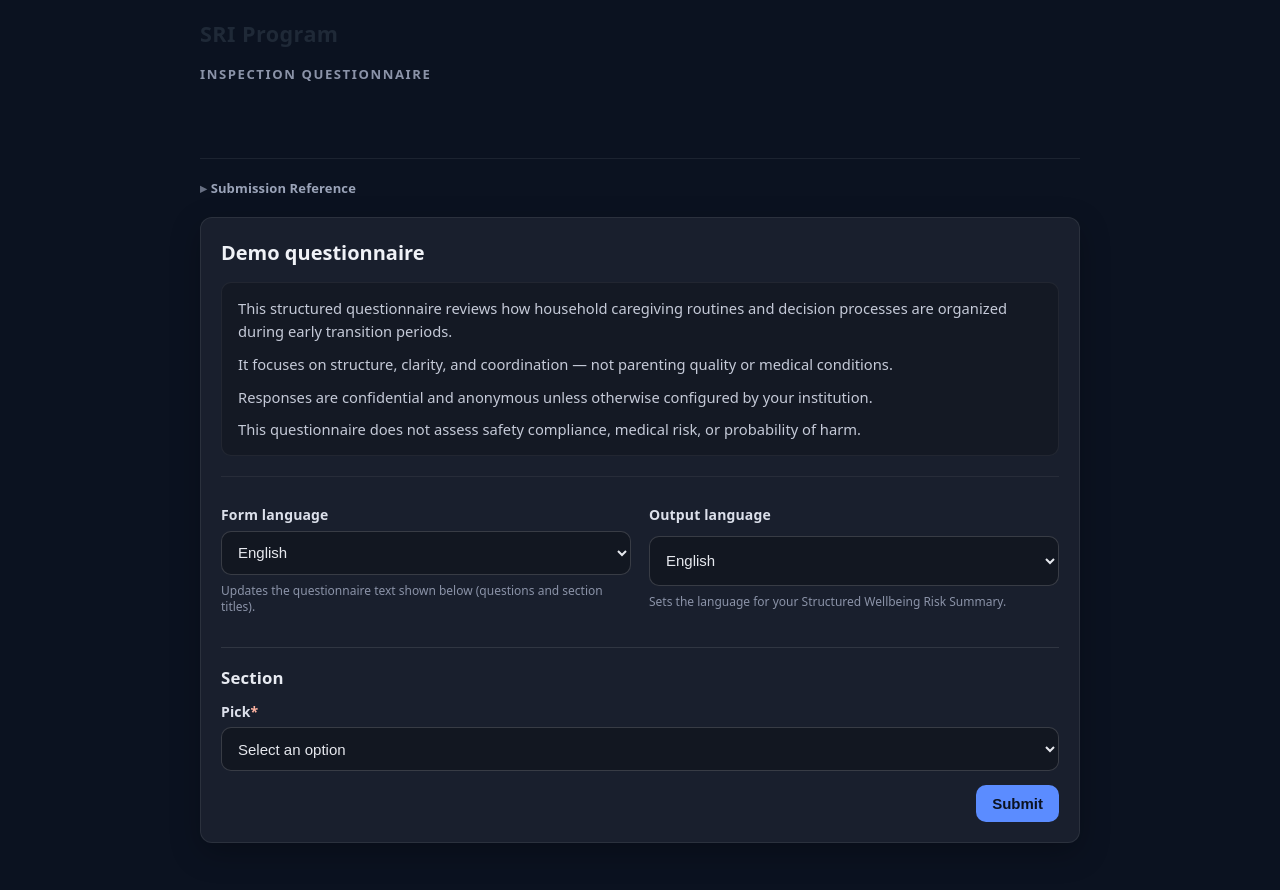
FormPage › maps backend 400 validation detail to a field message
Select "One" in the dropdown labelled "Pick*": (640, 749) [221,727,1059,771]
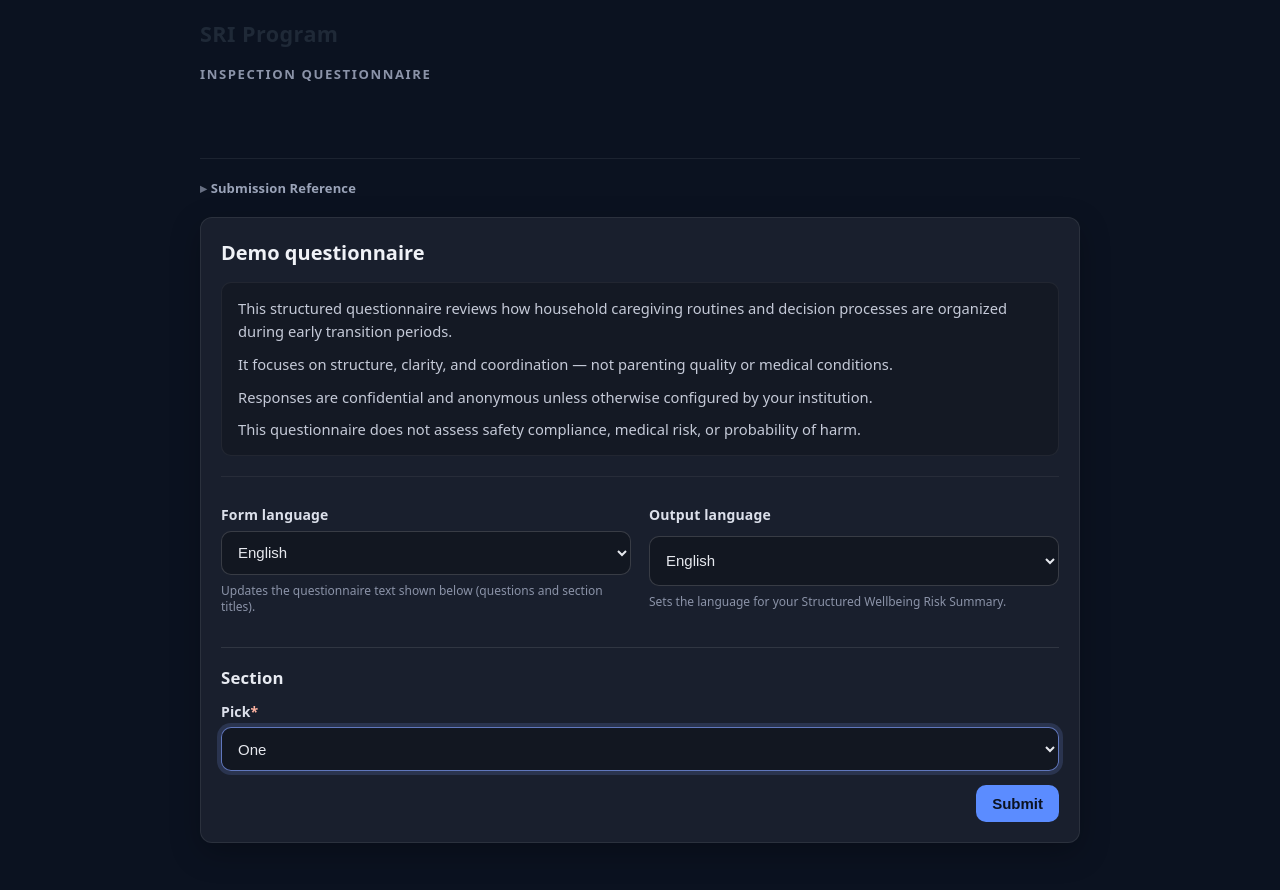
Click the button "Submit": (1018, 804) [976,785,1059,822]
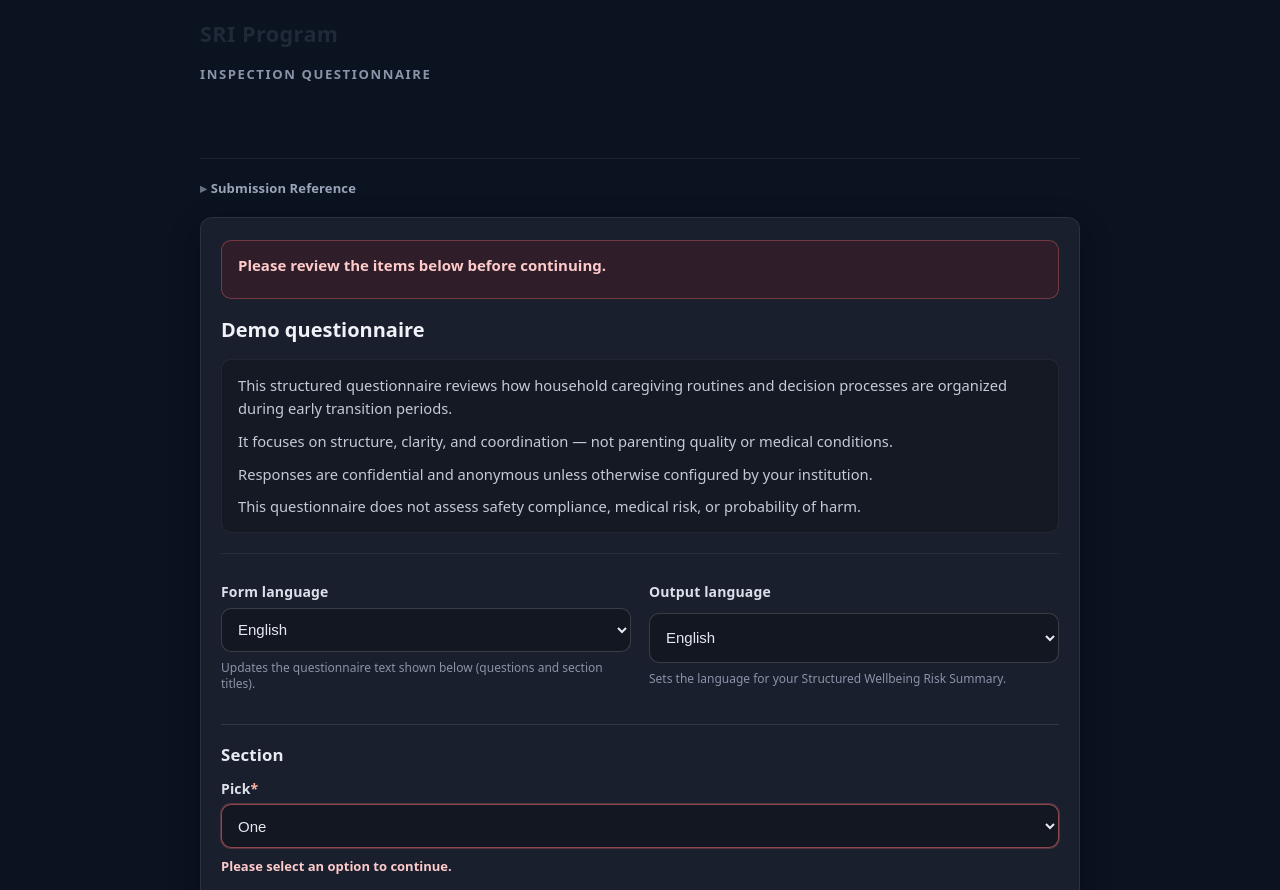
Expected: the text "Please select an option to continue." is shown, [221,857,452,875]
